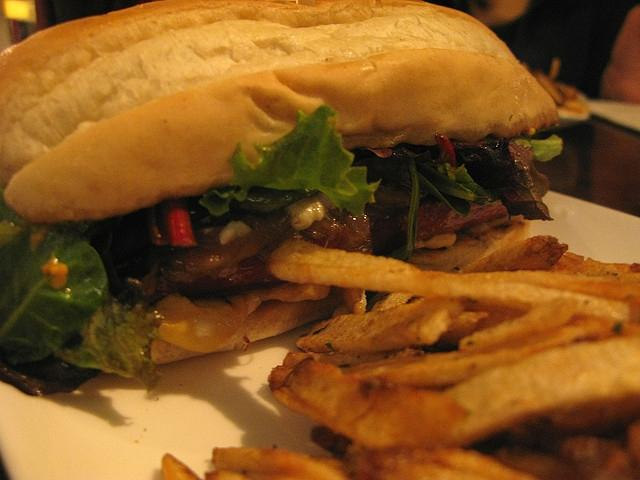lettuce: (198, 104, 382, 218), (0, 238, 109, 366), (53, 293, 165, 391), (424, 156, 500, 203), (416, 162, 478, 217), (512, 135, 562, 162)
